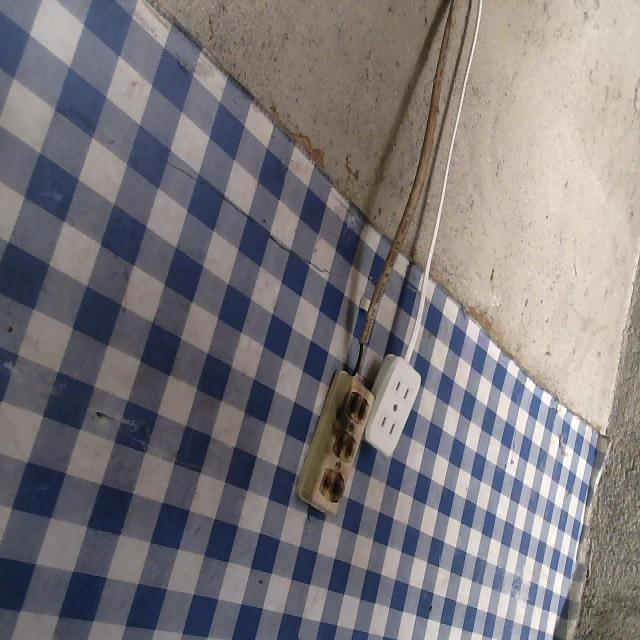-: (317, 463, 345, 504), (329, 427, 358, 464), (343, 387, 367, 425)
